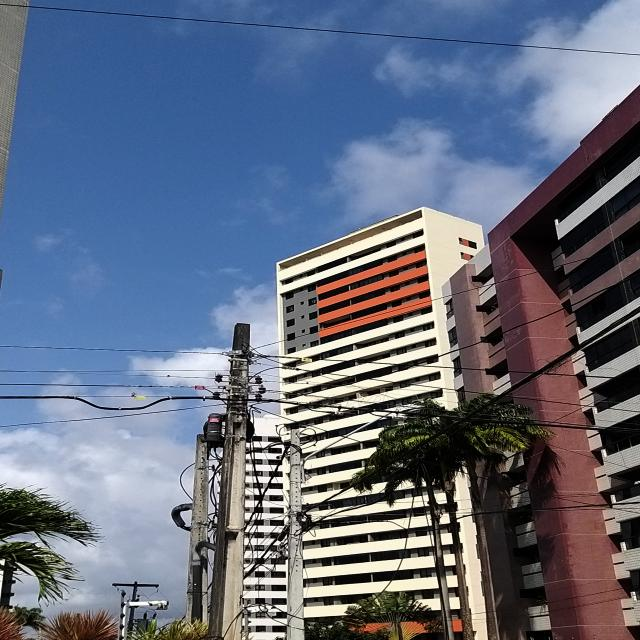Plaqueta: (195, 385, 204, 390), (210, 418, 219, 422)
